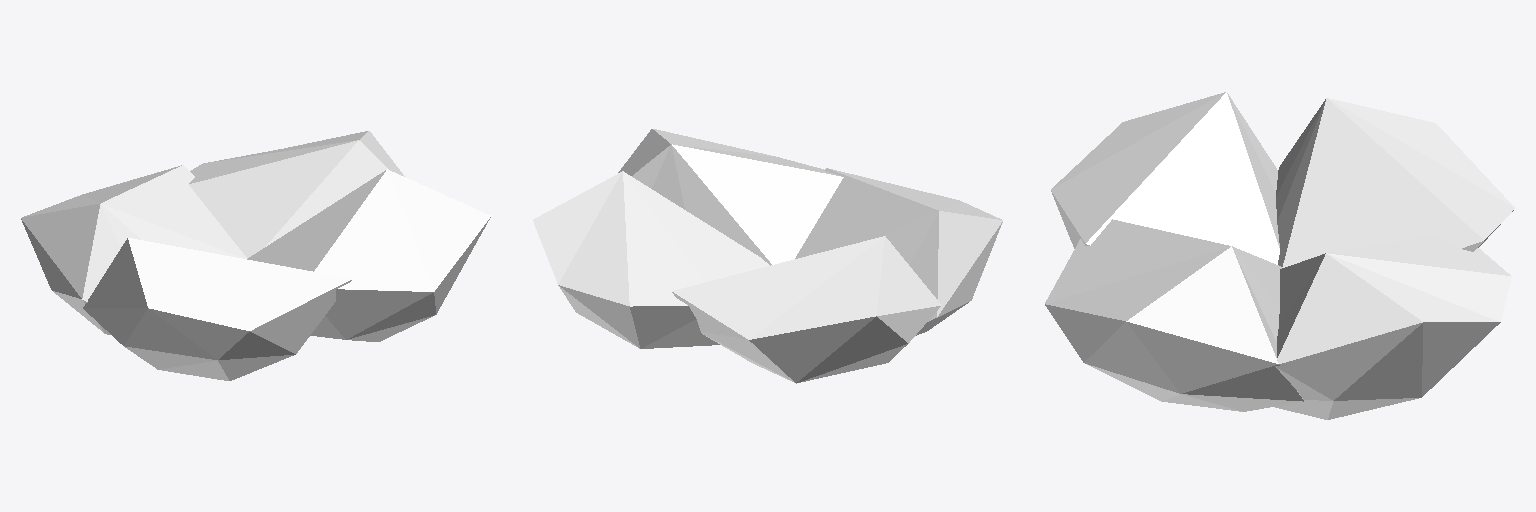
URDF robot description (hyq_rom):
<robot name="hyq_rom">
  <link name="base_link">
    <visual>
      <origin xyz="0 0 0" rpy="0 0 0" />
      <geometry>
        <mesh filename="package://hpp-rbprm-corba/meshes/hyq/hyq_rom.stl"/>
      </geometry>
      <material name="white">
        <color rgba="1 1 1 1"/>
      </material>
    </visual>
    <collision>
      <origin xyz="0 0 0" rpy="0 0 0" />
      <geometry>
        <mesh filename="package://hpp-rbprm-corba/meshes/hyq/hyq_rom.stl"/>
      </geometry>
    </collision>
  </link>
</robot>

--- Render facts (derived) ---
Views: 3 orthographic renders of the robot side by side, from view 1: azimuth 30°, elevation 25°; view 2: azimuth 150°, elevation 25°; view 3: azimuth 270°, elevation 25°.
Robot: hyq_rom — 1 links, 0 joints (none); root link base_link; default pose: all joints at 0.
Visible links, largest first — view 1: base_link; view 2: base_link; view 3: base_link.
Boxes of the visible links, x1,y1,x2,y2 form: base_link: (21, 131, 490, 380); base_link: (533, 129, 1002, 383); base_link: (1045, 92, 1514, 419).
Size in the robot's own frame: 2 by 1.89 by 0.8451 metres.
Meshes: 1 distinct files referenced, 1 mesh visuals loaded (1 binary STL).